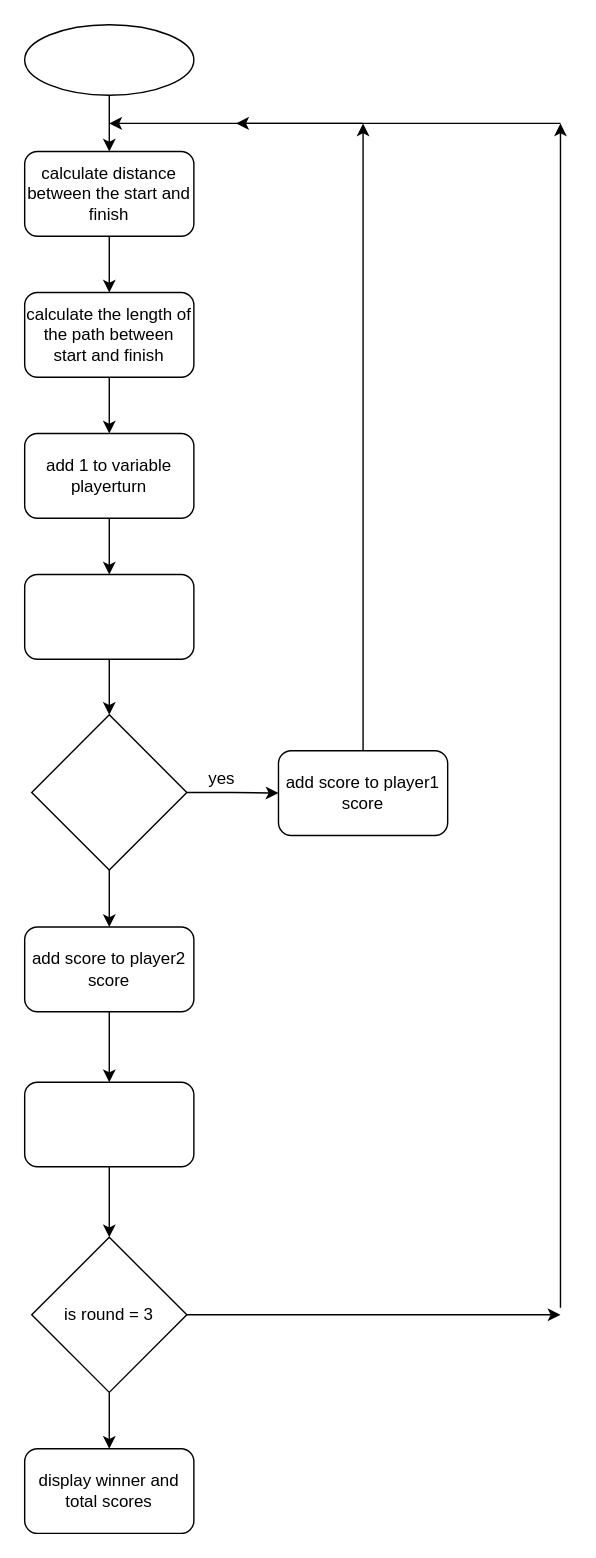
This 596x1558 diagram has some shape labels left out. The shapes that lost their labels are listed below. From the top down, each one's box as (x1, y1, x2, y2) in pixels, then its label:
(23, 23, 194, 95): start
(23, 573, 194, 659): calculate score for turn
(30, 713, 187, 870): is playerturn MOD = 1
(23, 1081, 194, 1167): add 1 to round
